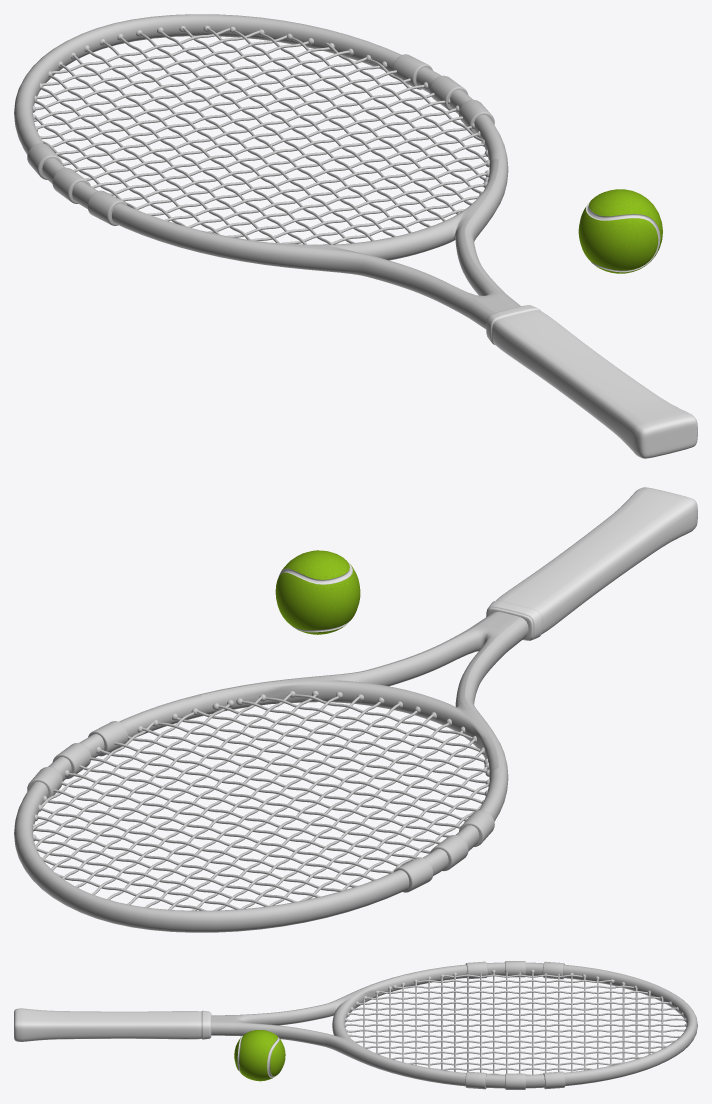
File: racket-ball.fbx
3 views of the same model, one above another, from view 1: azimuth 30°, elevation 25°; view 2: azimuth 150°, elevation 25°; view 3: azimuth 270°, elevation 25° (orthographic). The views are drawn at different scales.
Parts seen in each view (by area): view 1: racket, ball; view 2: racket, ball; view 3: racket, ball.
Boxes of the visible parts, x1,y1,x2,y2 form: racket: (14, 14, 697, 458); ball: (578, 189, 662, 273); racket: (14, 487, 697, 932); ball: (275, 550, 360, 634); racket: (14, 961, 697, 1089); ball: (234, 1030, 285, 1081).
Size of the model in its own units: 32.67 by 6.11 by 79.07.
